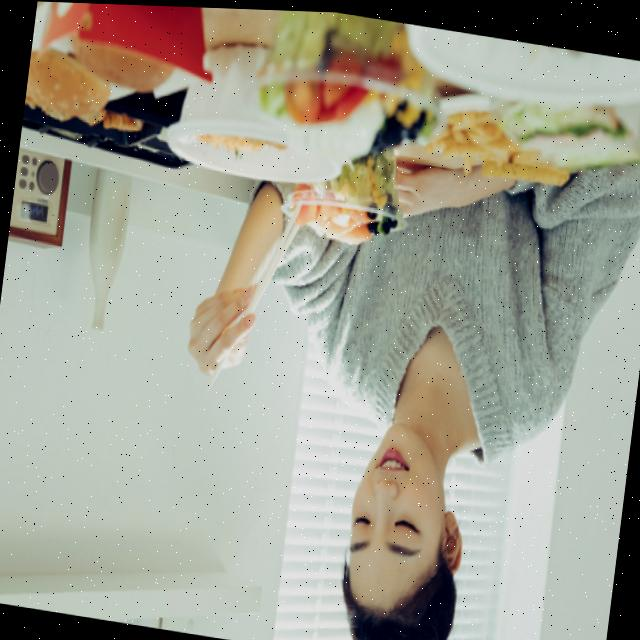eating-person: (153, 64, 640, 640)
